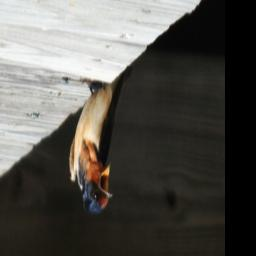Swallow: (68, 79, 121, 219)
